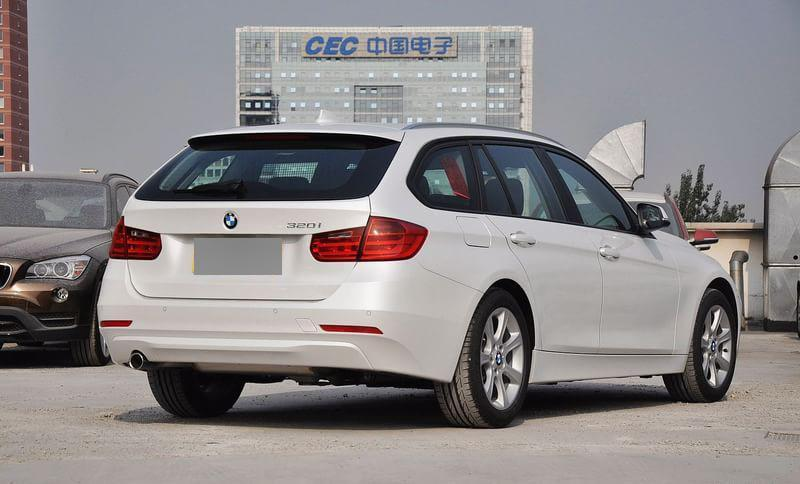Wagon: (95, 108, 744, 430)
